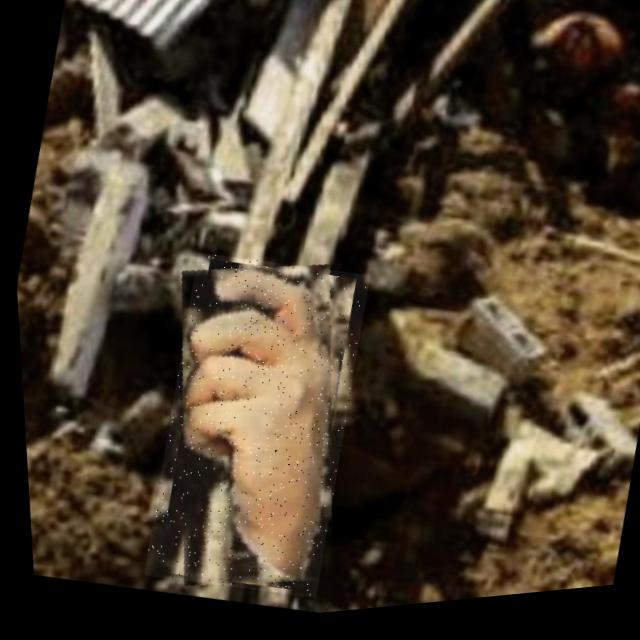Person in Rubble: (122, 243, 380, 616)
